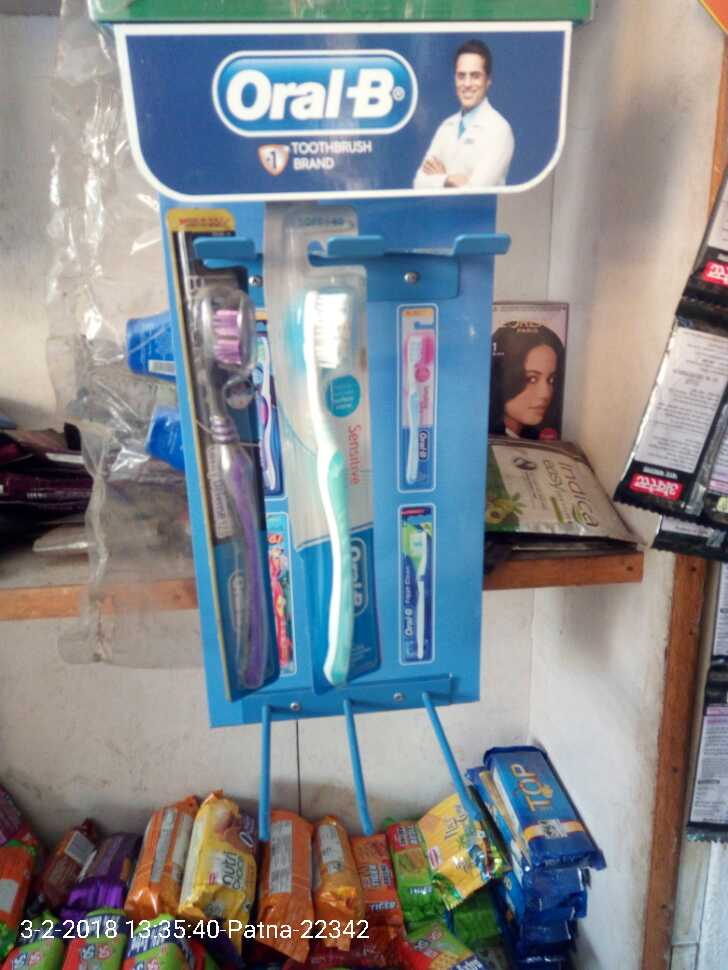oralb: (191, 278, 279, 698), (294, 290, 383, 699)
